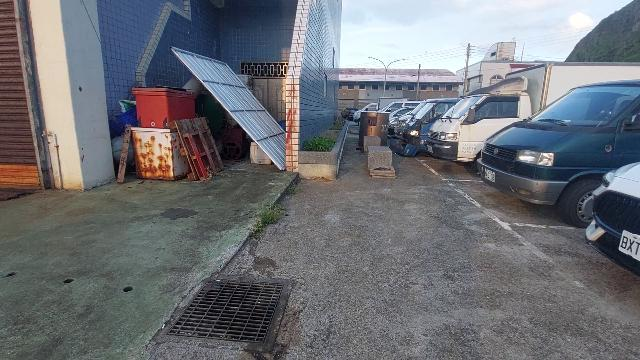pollute: (174, 116, 225, 180), (131, 127, 188, 181), (132, 88, 196, 128), (109, 99, 134, 137), (222, 124, 246, 160), (118, 123, 132, 181), (251, 142, 272, 164), (112, 135, 122, 162)
